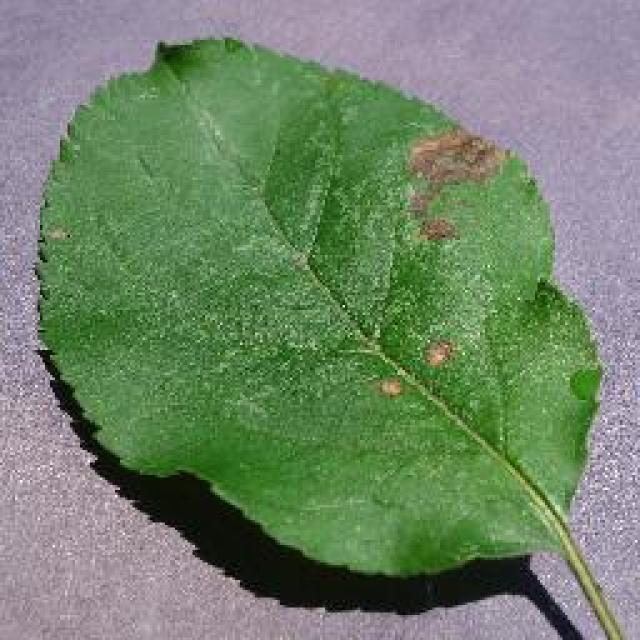apple black rot: (30, 33, 605, 615)
